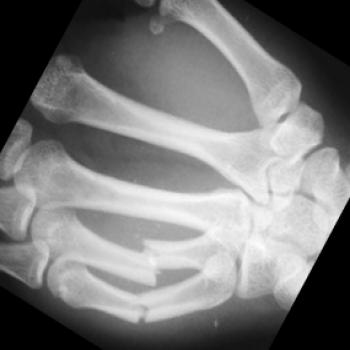Fracture: (134, 232, 163, 284), (128, 296, 154, 328)
